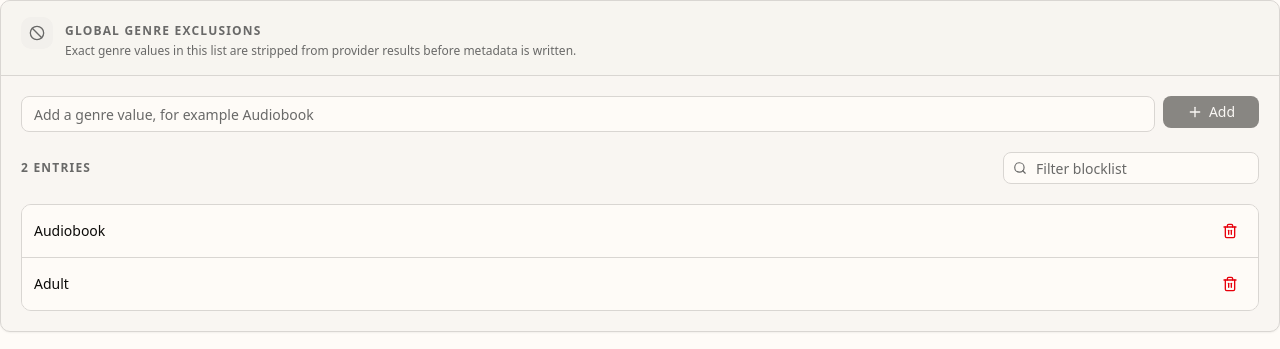
Test case: MetadataGenreBlocklistSettings › filters long blocklists and shows an empty filtered state
This screenshot has width=1280, height=349.
In the field with placeholder "Filter blocklist": [1131, 168] box [1003,152,1259,184], type "audio"
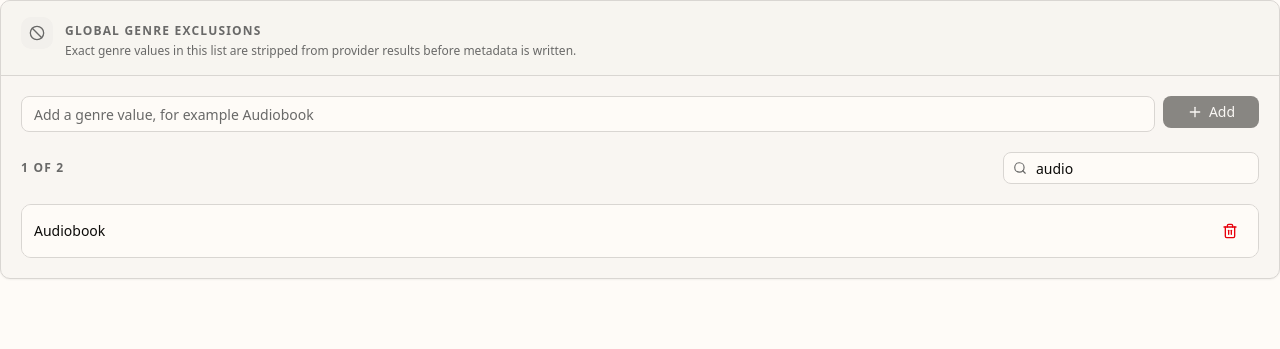
Expected: the text "Audiobook" is shown, [34,221,105,241]
Result: the text "1 of 2" is shown at [21,160,64,176]
Result: the text "Adult" is gone
Replace the text in the field with placeholder "Filter blocklist" with "missing": [1131, 168] box [1003,152,1259,184]
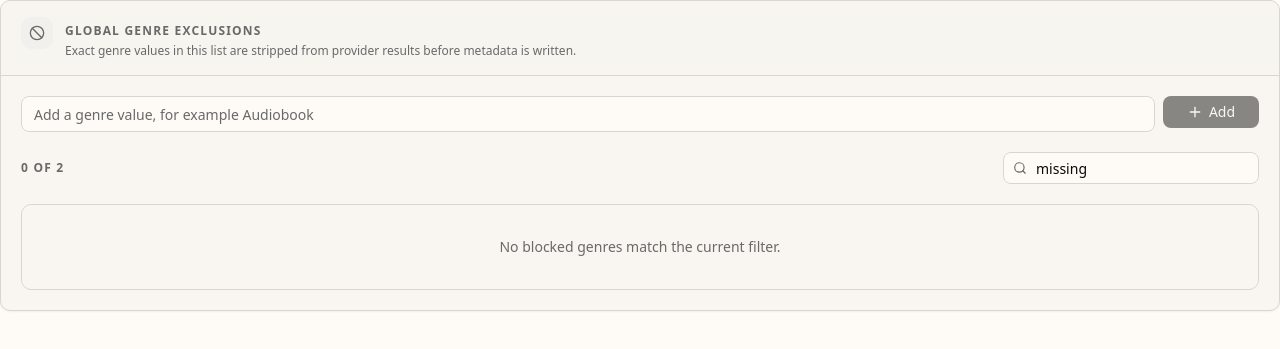
Result: the text "No blocked genres match the current filter." is shown at [499,237,780,256]
